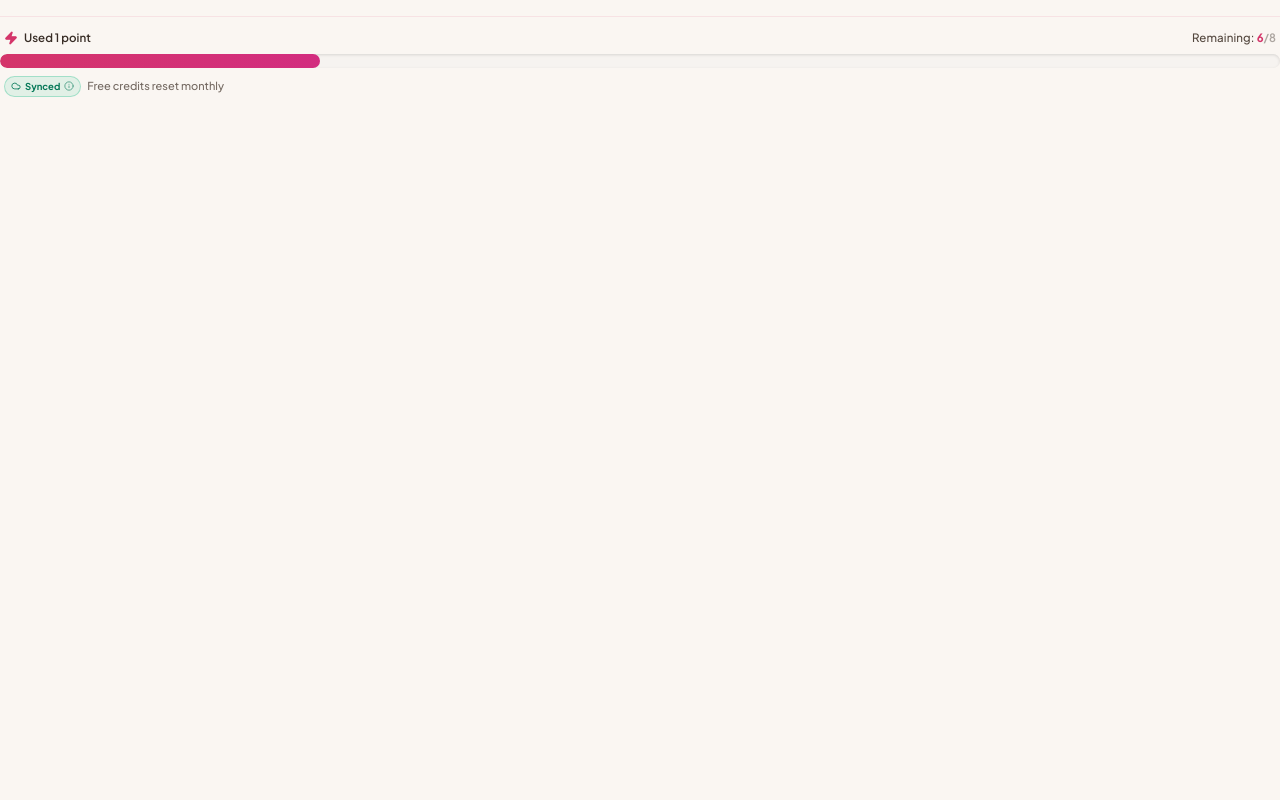
Test case: UsagePulseFooter — source badge accessibility › clicking the badge also opens the dialog (mouse parity with keyboard)
Click the button. click: {"x": 43, "y": 86}
box: [4,76,81,97]
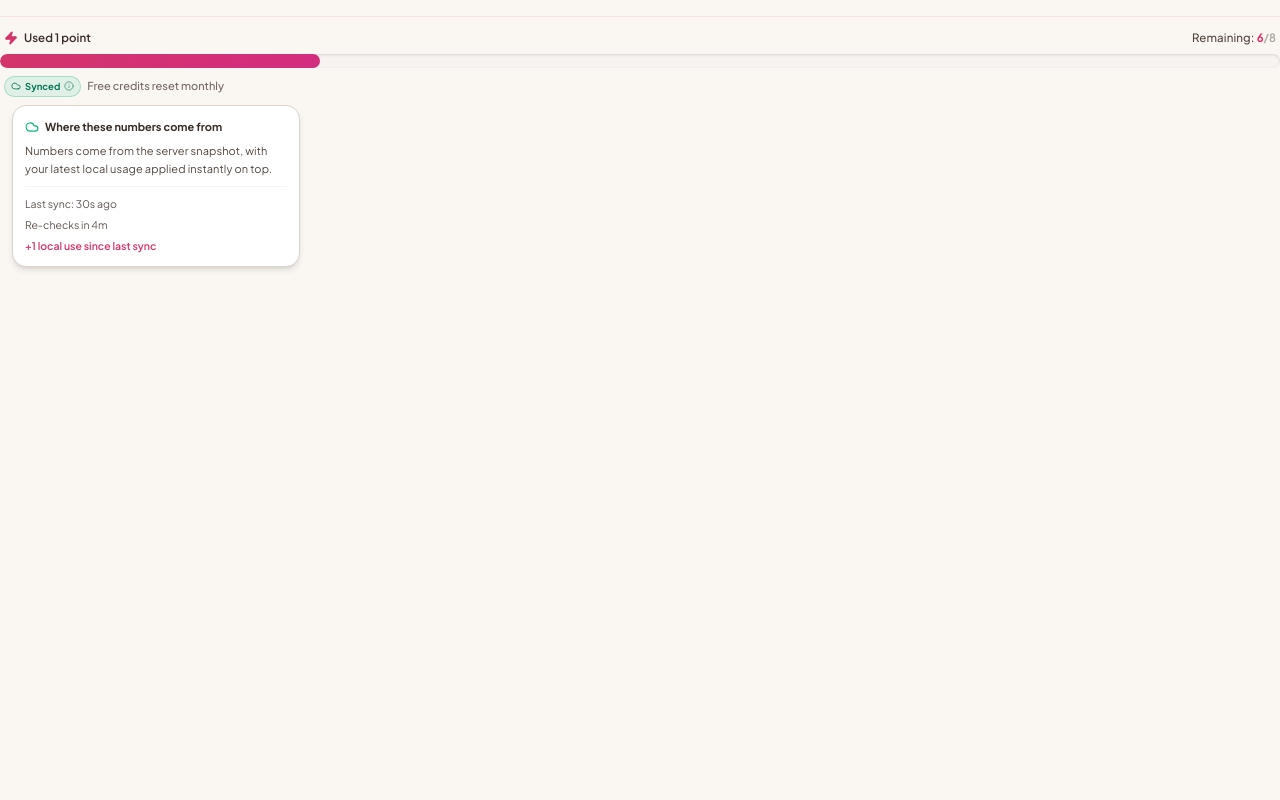
Now the dialog is shown, box [12,105,300,267]
